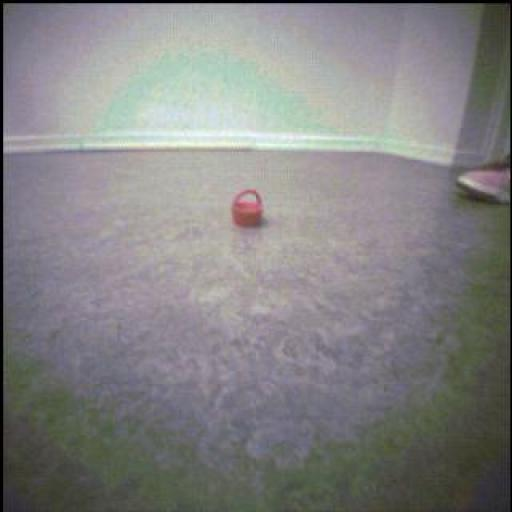Bucket: (233, 190, 263, 228)
